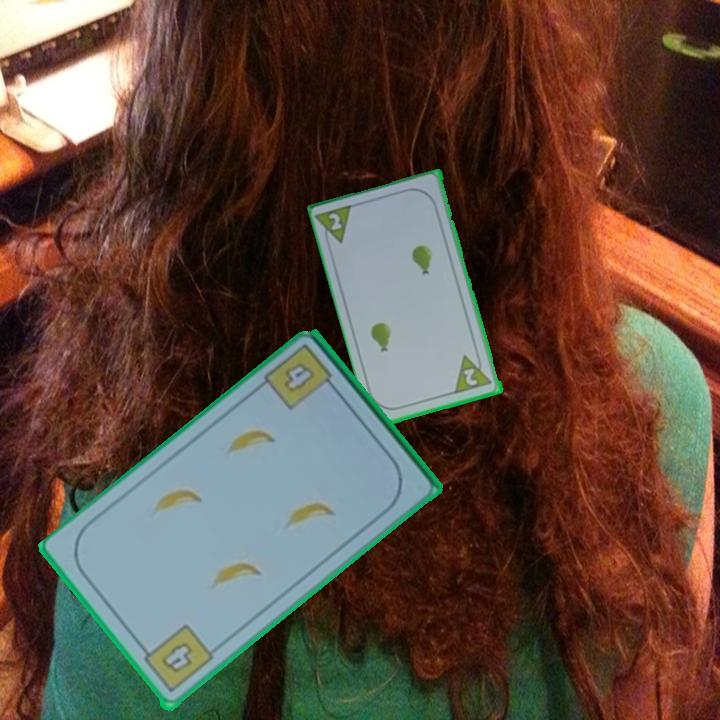2p: (325, 209, 346, 234), (460, 365, 481, 389)
4b: (136, 621, 216, 697), (260, 340, 342, 414)
